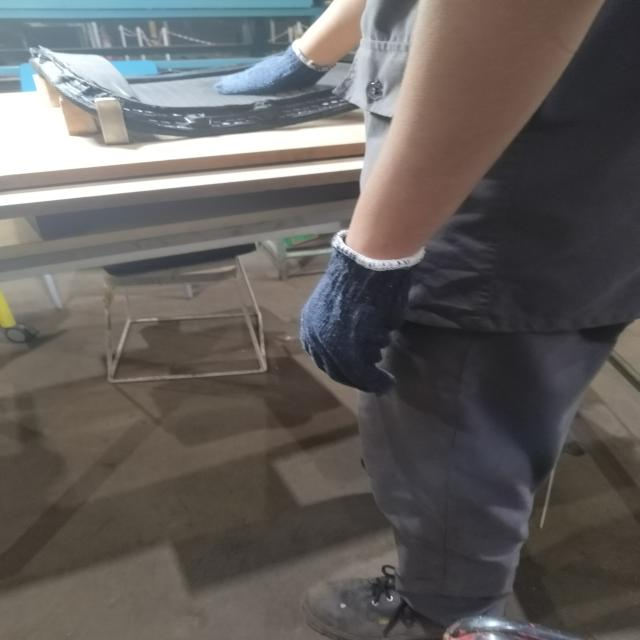Gloves-Detection: (302, 232, 407, 392), (213, 55, 314, 100)
